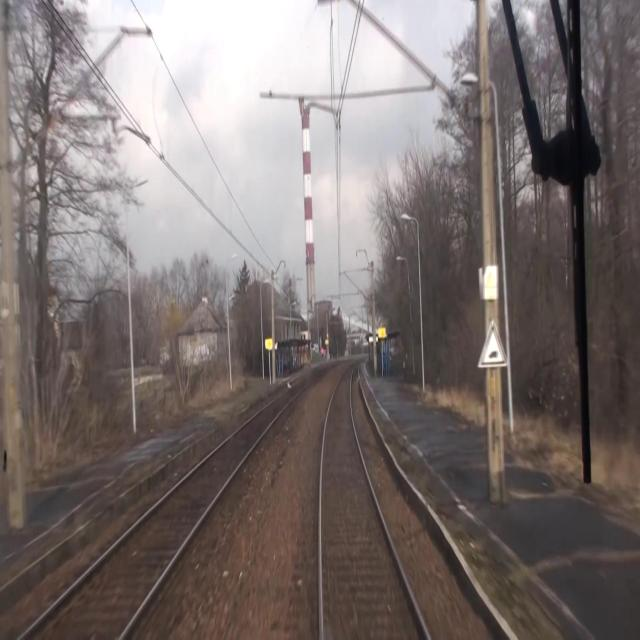rail-track: (26, 383, 303, 639), (322, 366, 425, 639)
